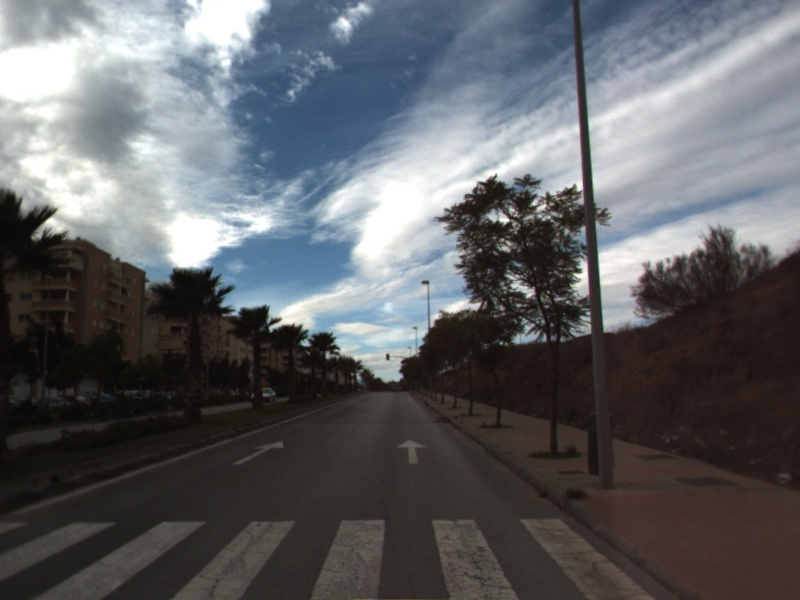STRAIGHT: (230, 438, 286, 467), (395, 437, 430, 466)
